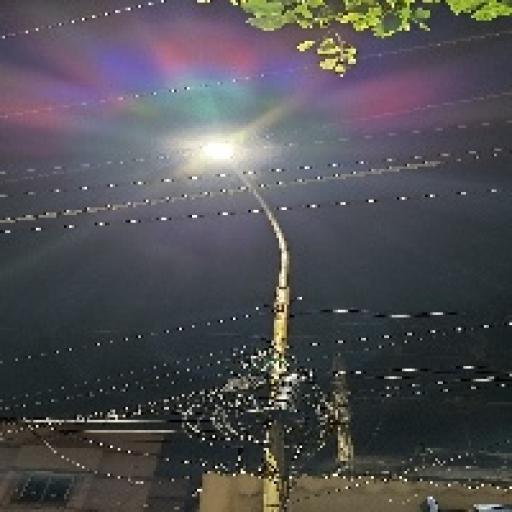Working: (184, 130, 245, 171)
